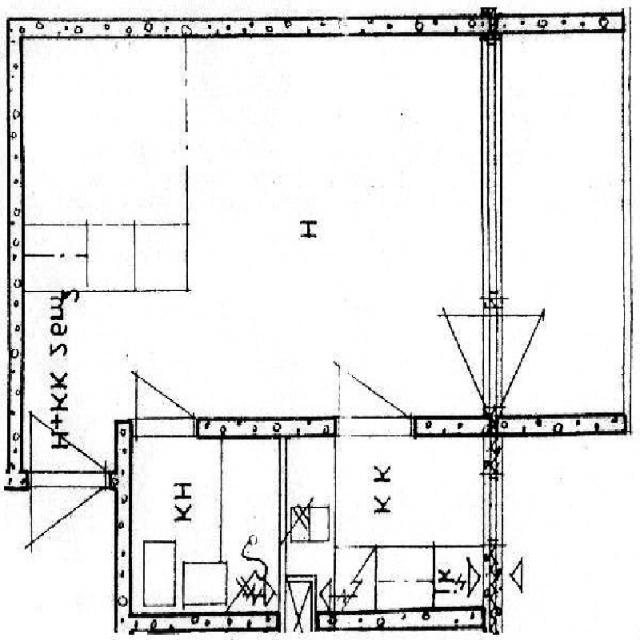door: (31, 472, 106, 587), (31, 375, 106, 490), (482, 314, 574, 405), (412, 314, 503, 405), (338, 324, 409, 436), (137, 341, 194, 436)
